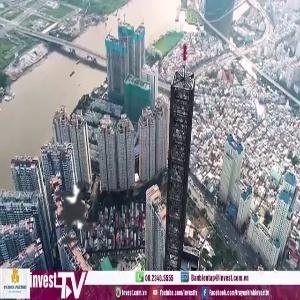drone: (8, 147, 140, 279)
